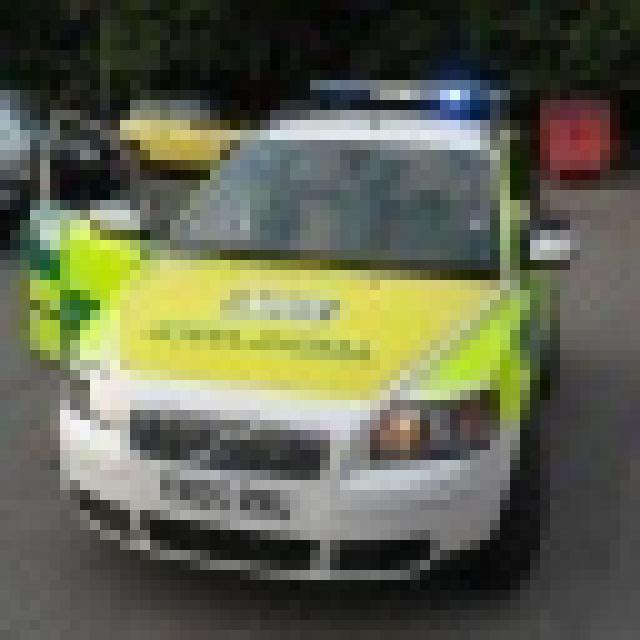Ambulance: (20, 70, 570, 580)
